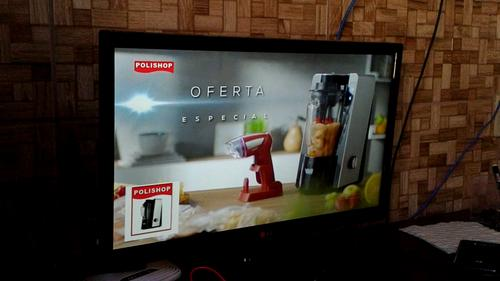Polishop #1: (124, 181, 179, 241)
